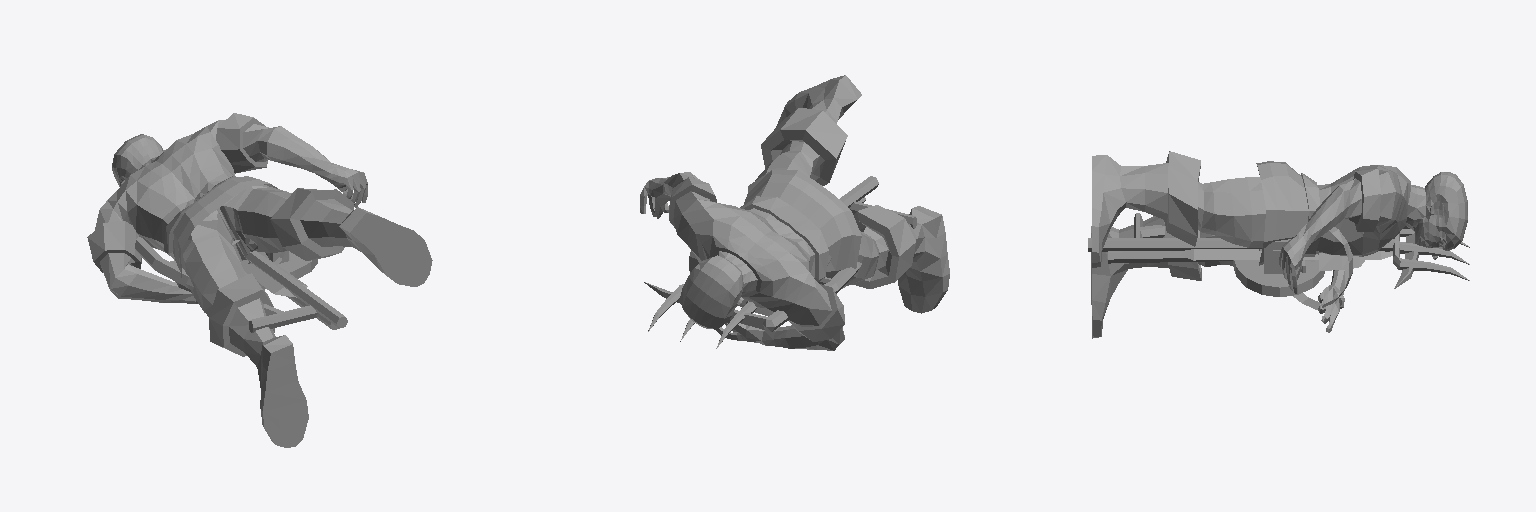
The picture shows the model from 3 angles: view 1: azimuth 30°, elevation 25°; view 2: azimuth 150°, elevation 25°; view 3: azimuth 270°, elevation 25°; orthographic projection.
Visible parts, largest first — view 1: Body.001, Scythe, Pitchfork, Sheat, Shield; view 2: Body.001, Scythe, Pitchfork; view 3: Body.001, Pitchfork, Shield, Shovel, Scythe, Sheat, Bandolera, Funda.001_LegBag.
Part boxes in pixels (bbox=[...]): Body.001: bbox=[87, 113, 432, 447]; Scythe: bbox=[135, 237, 317, 332]; Pitchfork: bbox=[246, 251, 347, 328]; Sheat: bbox=[241, 255, 307, 297]; Shield: bbox=[176, 251, 317, 292]; Body.001: bbox=[640, 75, 949, 350]; Scythe: bbox=[644, 201, 916, 331]; Pitchfork: bbox=[648, 176, 878, 348]; Body.001: bbox=[1091, 151, 1467, 338]; Pitchfork: bbox=[1088, 229, 1469, 280]; Shield: bbox=[1233, 250, 1324, 296]; Shovel: bbox=[1108, 251, 1367, 270]; Scythe: bbox=[1134, 213, 1418, 288]; Sheat: bbox=[1180, 249, 1261, 260]; Bandolera: bbox=[1293, 227, 1352, 309]; Funda.001_LegBag: bbox=[1264, 239, 1290, 273].
Bounding box in the file's own units: 41.88 × 36.26 × 57.93.